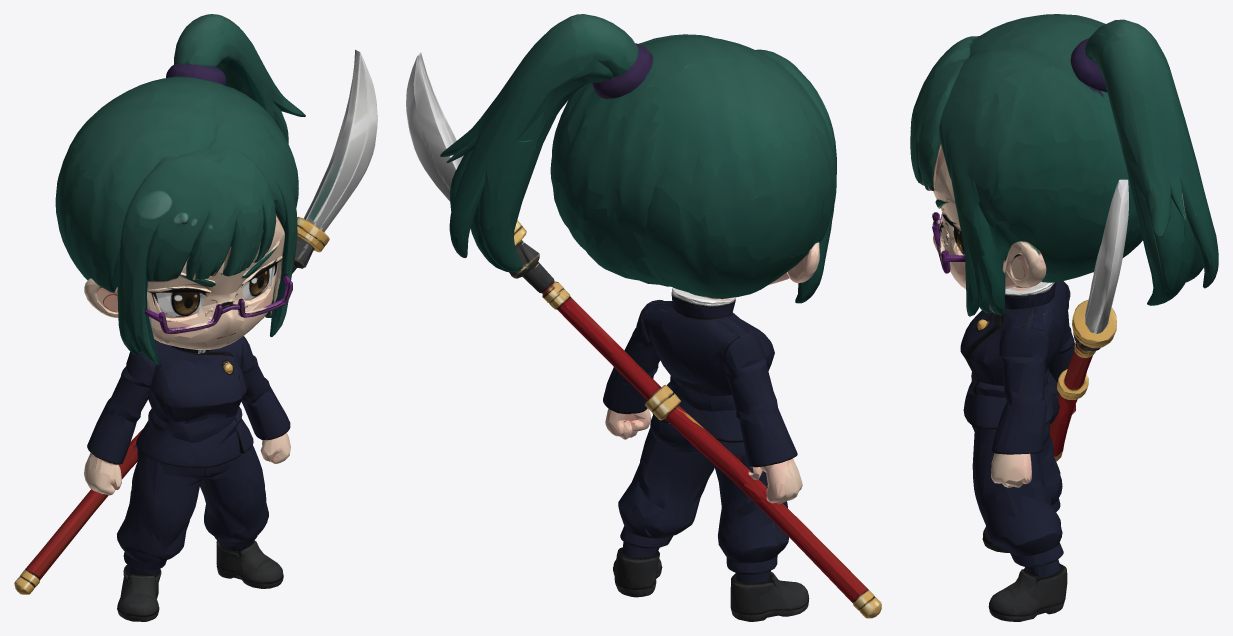
Rendered from Makki.glb.
3 views of the same model, side by side, from view 1: azimuth 30°, elevation 25°; view 2: azimuth 150°, elevation 25°; view 3: azimuth 270°, elevation 25° (orthographic). The views are drawn at different scales.
Parts seen in each view (by area): view 1: Mesh_0; view 2: Mesh_0; view 3: Mesh_0.
Boxes of the visible parts, x1=… form: Mesh_0: x1=14, y1=14, x2=377, y2=621; Mesh_0: x1=406, y1=14, x2=881, y2=621; Mesh_0: x1=910, y1=14, x2=1218, y2=621.
Size of the model in its own units: 1.46 by 1.9 by 0.9015.
Materials: 1 (1 with a texture image).
